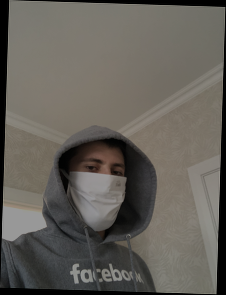with_mask: (68, 152, 127, 233)
